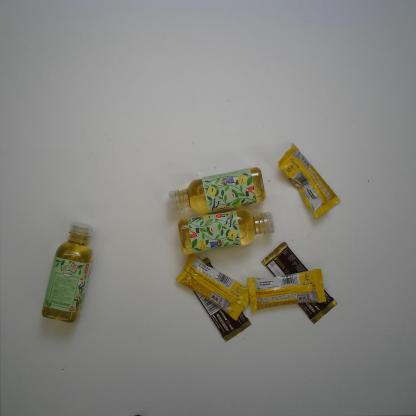Chocolate: (261, 241, 338, 326), (184, 257, 252, 343), (175, 253, 251, 322), (277, 143, 342, 219), (246, 267, 327, 314)
Drink: (41, 221, 94, 324), (167, 166, 268, 214), (178, 209, 275, 255)
